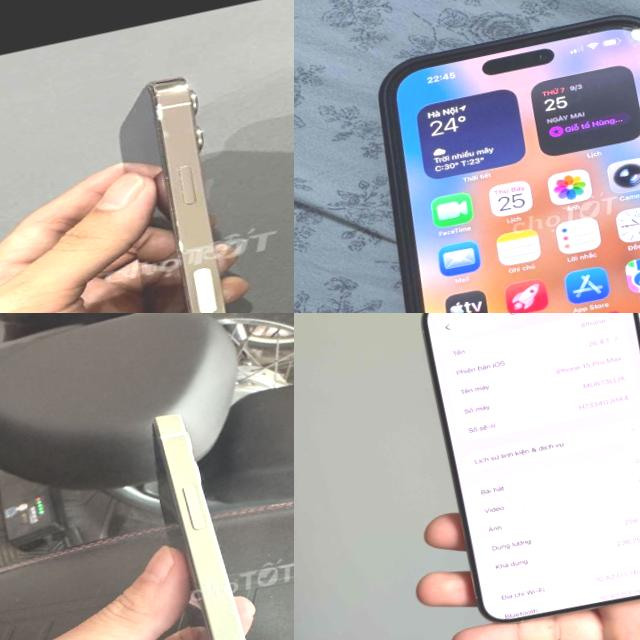gen_12_13: (47, 41, 294, 313), (123, 384, 294, 640)
gen_14: (331, 0, 640, 313)
gen_15: (405, 313, 640, 640)
